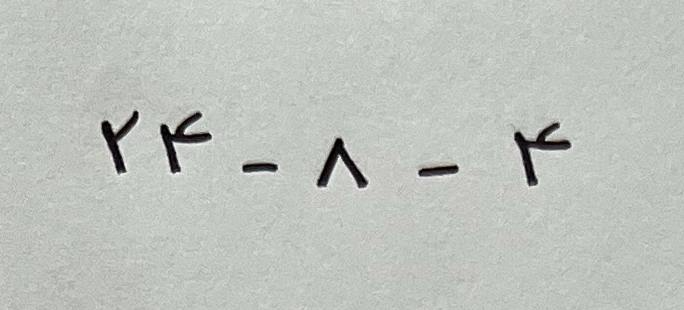character: (514, 122, 571, 186), (160, 111, 213, 176), (316, 136, 369, 189), (101, 109, 140, 175), (419, 165, 457, 177), (242, 162, 277, 173)
